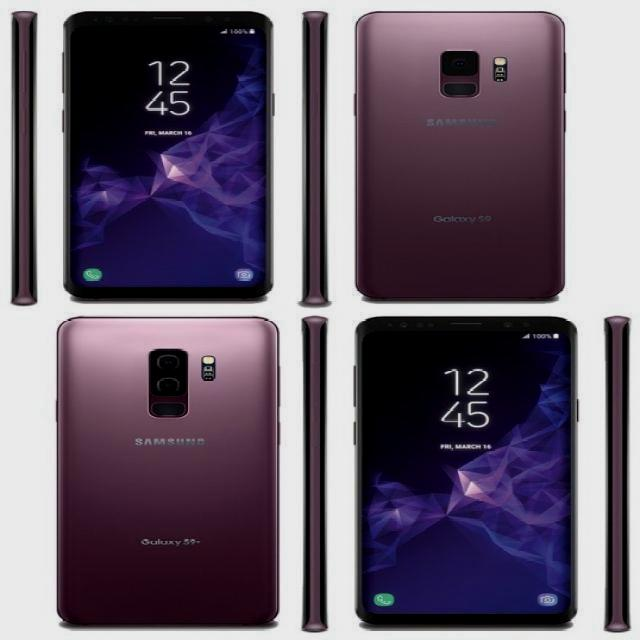phone: (350, 309, 582, 633), (52, 308, 282, 630), (347, 6, 572, 304), (57, 7, 280, 302), (294, 314, 331, 636), (599, 312, 634, 634), (10, 7, 45, 308), (299, 6, 333, 311)
